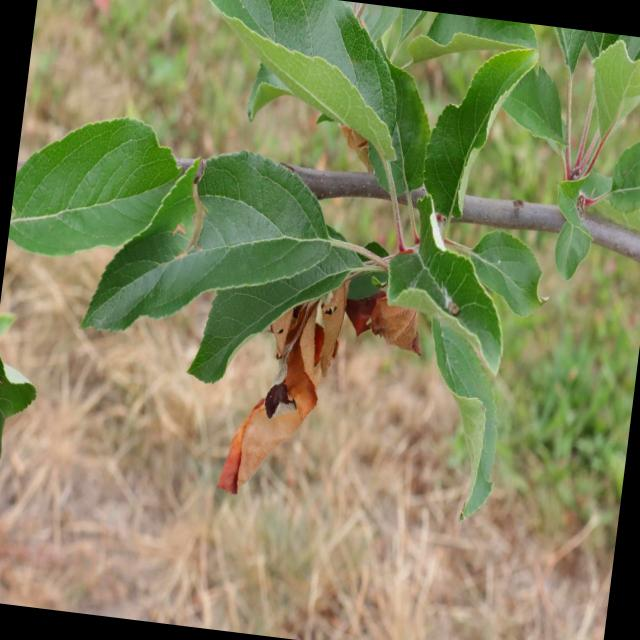-FireBlight-: (216, 266, 351, 512), (362, 282, 427, 356)
